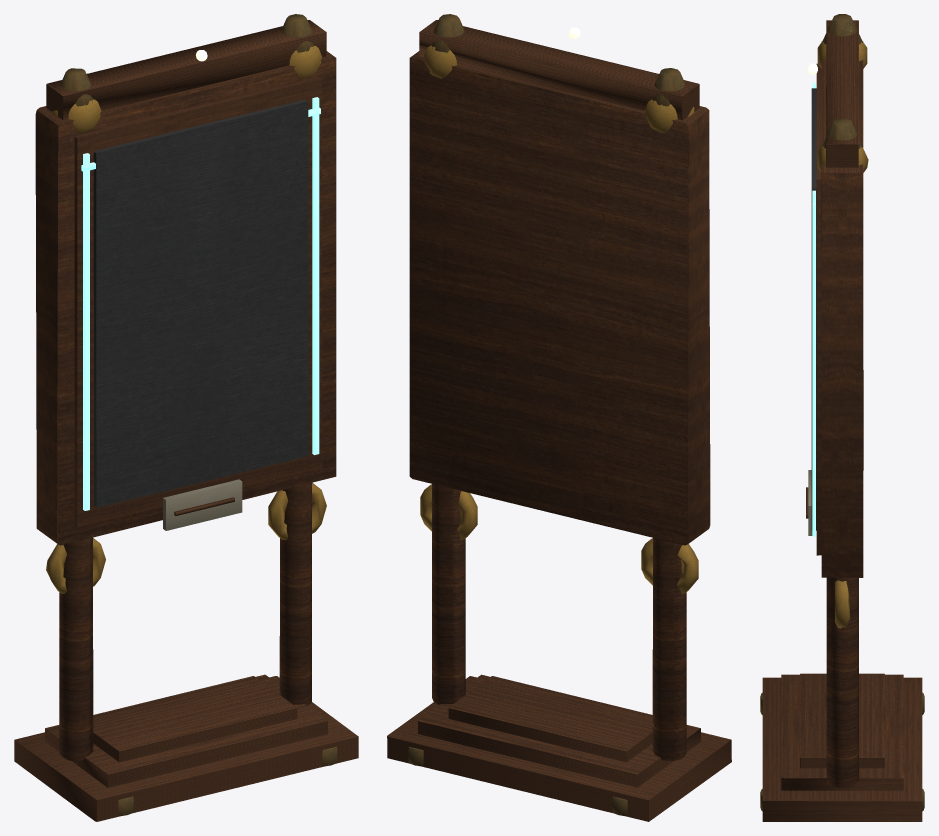
The model's file is hp_room_l02_p08.glb.
3 views of the same model, side by side, from view 1: azimuth 30°, elevation 25°; view 2: azimuth 150°, elevation 25°; view 3: azimuth 270°, elevation 25° (orthographic). The views are drawn at different scales.
Parts seen in each view (by area): view 1: room_l02_p08; view 2: room_l02_p08; view 3: room_l02_p08.
Part boxes in pixels (x1,y1,x2,y2): room_l02_p08: (14,14,358,821); room_l02_p08: (387,14,731,821); room_l02_p08: (760,14,924,821).
Bounding box in the file's own units: 0.6574 × 1.62 × 0.3465.
Materials: 9 (7 with a texture image).
